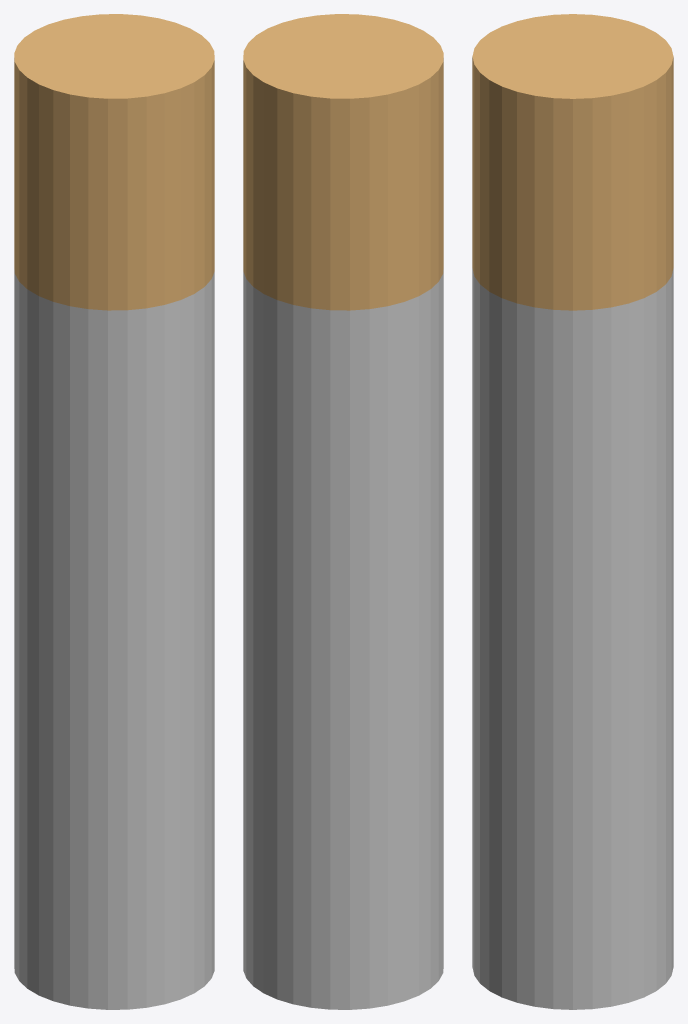
File: cigarette_shorter2.glb
3 views of the same model, side by side, from view 1: azimuth 30°, elevation 25°; view 2: azimuth 150°, elevation 25°; view 3: azimuth 270°, elevation 25° (orthographic).
Parts seen in each view (by area): view 1: Cylinder; view 2: Cylinder; view 3: Cylinder.
Boxes of the visible parts, left/top/right/bottom form: Cylinder: left=14, top=14, right=214, bottom=1009; Cylinder: left=243, top=14, right=443, bottom=1009; Cylinder: left=472, top=14, right=673, bottom=1009.
Bounding box in the file's own units: 2 × 10 × 2.
